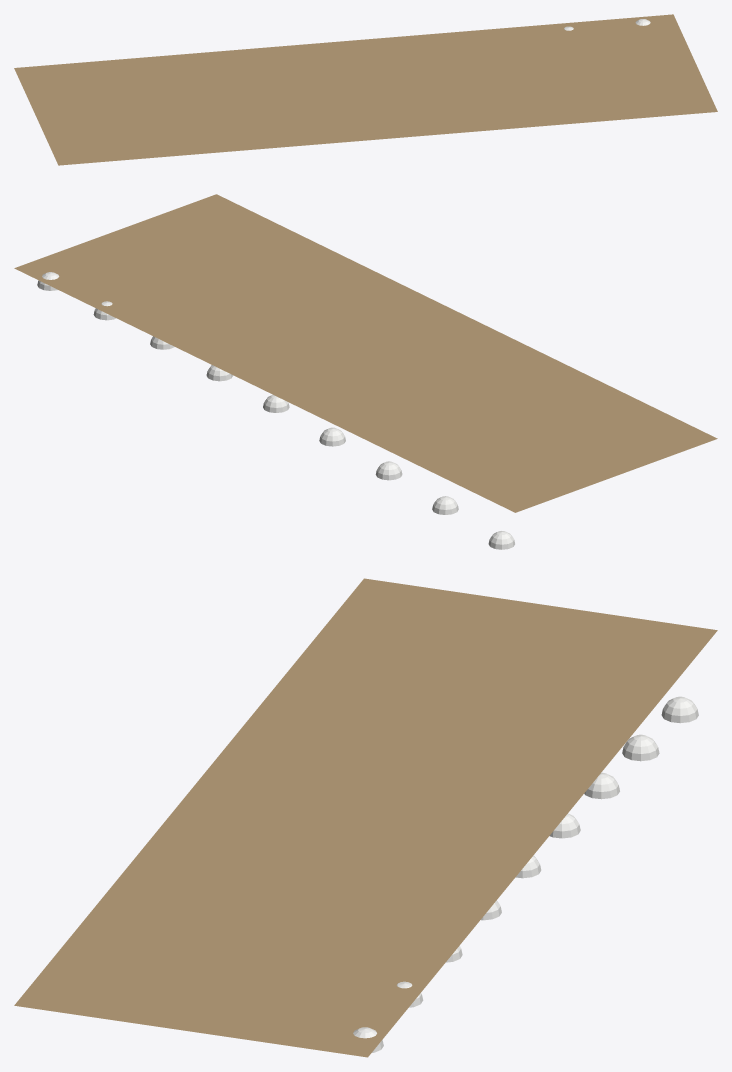
The model's file is r40_domebollards.glb.
3 views of the same model, one above another, from view 1: azimuth 30°, elevation 25°; view 2: azimuth 150°, elevation 25°; view 3: azimuth 270°, elevation 25° (orthographic). The views are drawn at different scales.
Visible parts, largest first — view 1: r40_domebollards_lod0; view 2: r40_domebollards_lod0; view 3: r40_domebollards_lod0.
Part boxes in pixels (box(x1,y1,x2,y2)): r40_domebollards_lod0: box(14, 14, 717, 165); r40_domebollards_lod0: box(14, 194, 717, 549); r40_domebollards_lod0: box(14, 578, 717, 1057).
Size of what is drawn, in the model's own units: 21.19 by 1.46 by 13.16.
